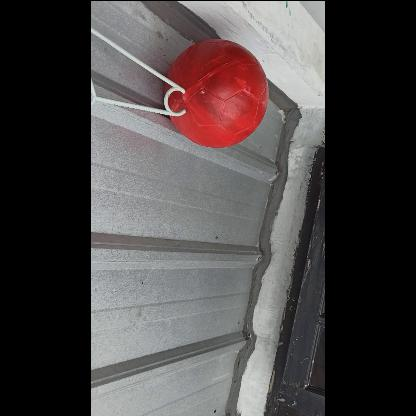red_ball: (164, 40, 270, 146)
